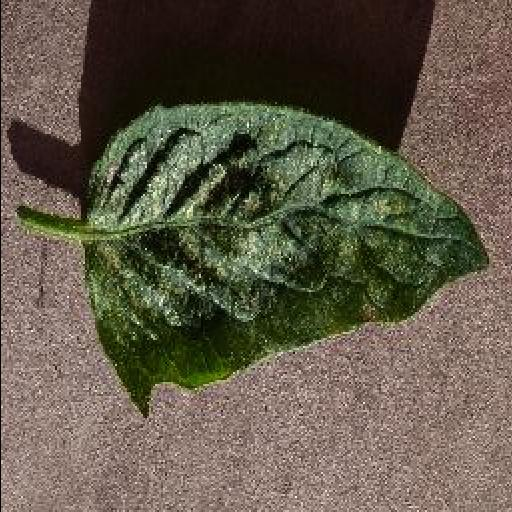disease_tomato: (82, 106, 492, 416)
